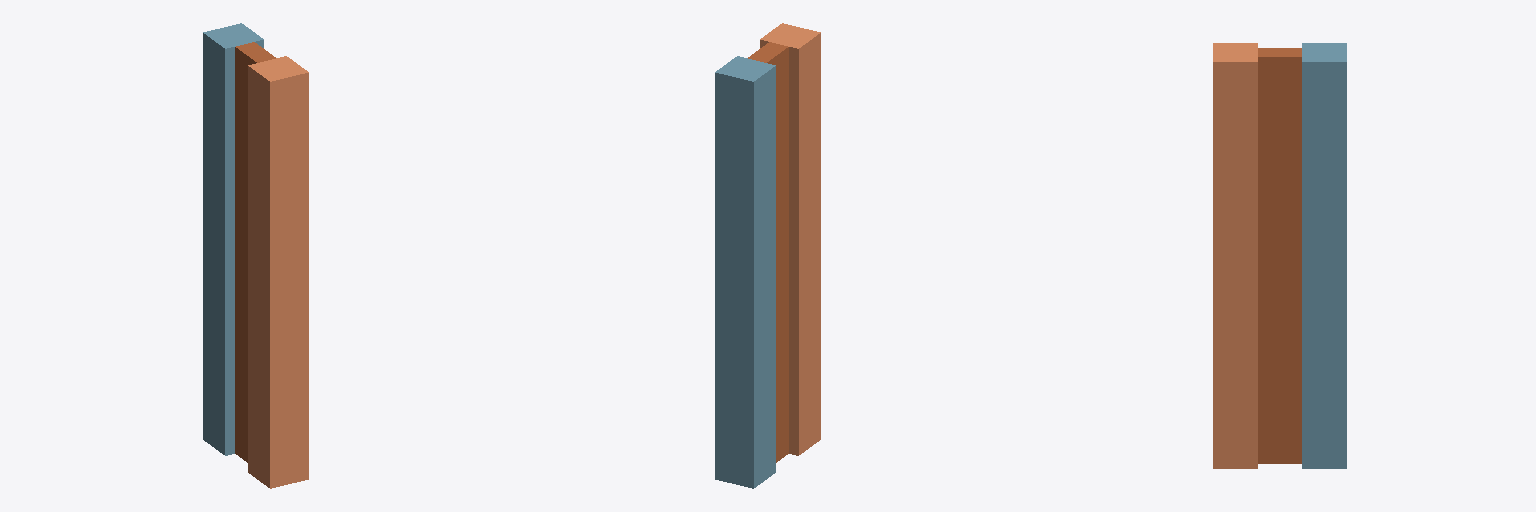
The model's file is wallWoodArch.obj.
3 renders of one model, left to right at view 1: azimuth 30°, elevation 25°; view 2: azimuth 150°, elevation 25°; view 3: azimuth 270°, elevation 25°, orthographic.
Parts seen in each view (by area): view 1: wallWoodArch; view 2: wallWoodArch; view 3: wallWoodArch.
Part boxes in pixels (left/top/right/bottom): wallWoodArch: left=203, top=23, right=308, bottom=488; wallWoodArch: left=715, top=23, right=820, bottom=488; wallWoodArch: left=1213, top=43, right=1346, bottom=468.
Bounding box in the file's own units: 0.1 × 1 × 0.3.